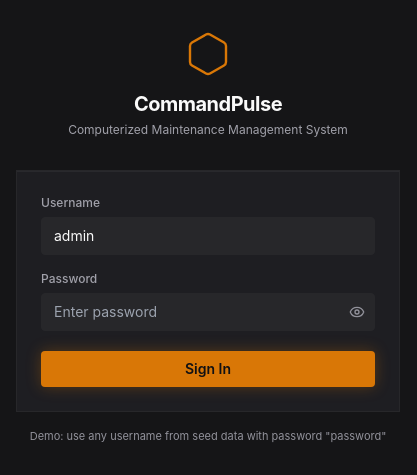
it: LoginPage › shows an error message when credentials are invalid
Replace the text in the field with "operator" at (208, 236), box [41,217,375,255]
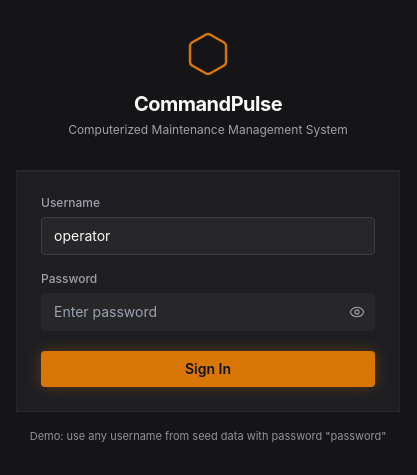
Type "wrong" into the password field with placeholder "Enter password" at (208, 312), box [41,293,375,331]
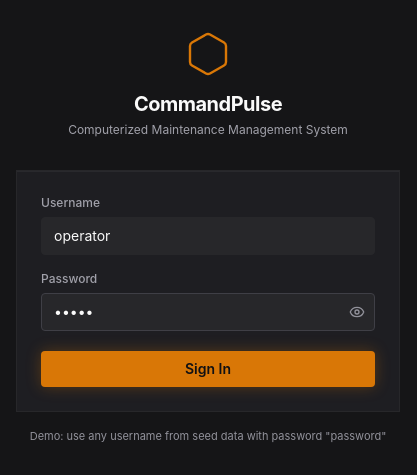
Click the button "Sign In" at (208, 369), box [41,351,375,387]
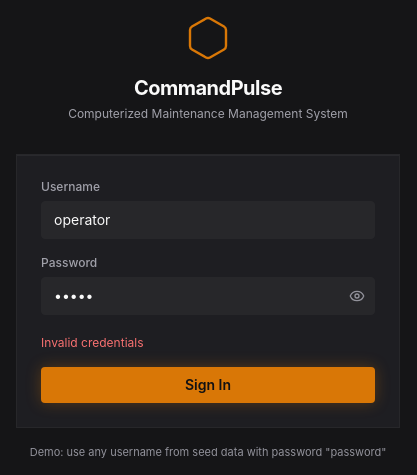
Check: the text "Invalid credentials" is shown, box [41,335,144,350]
